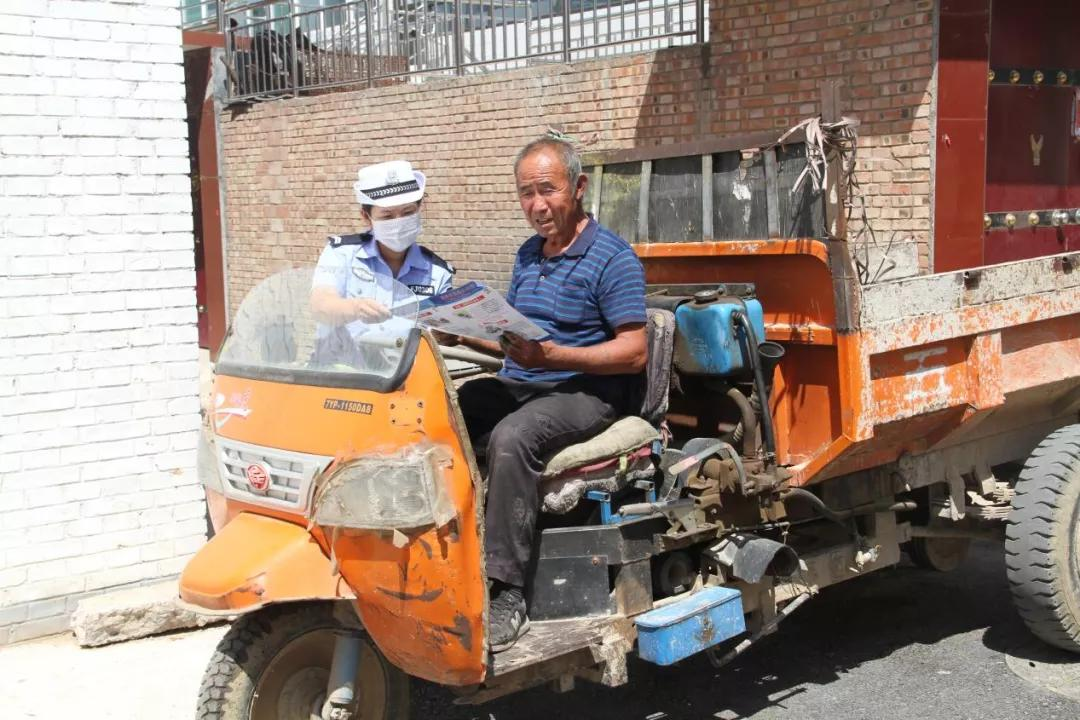driver: (450, 125, 693, 631)
only_driver: (194, 35, 1080, 718)
